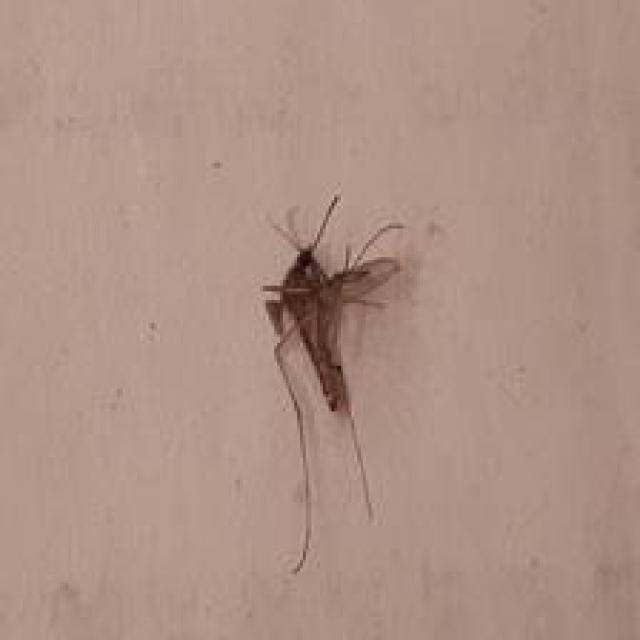Culex: (259, 193, 407, 573)
